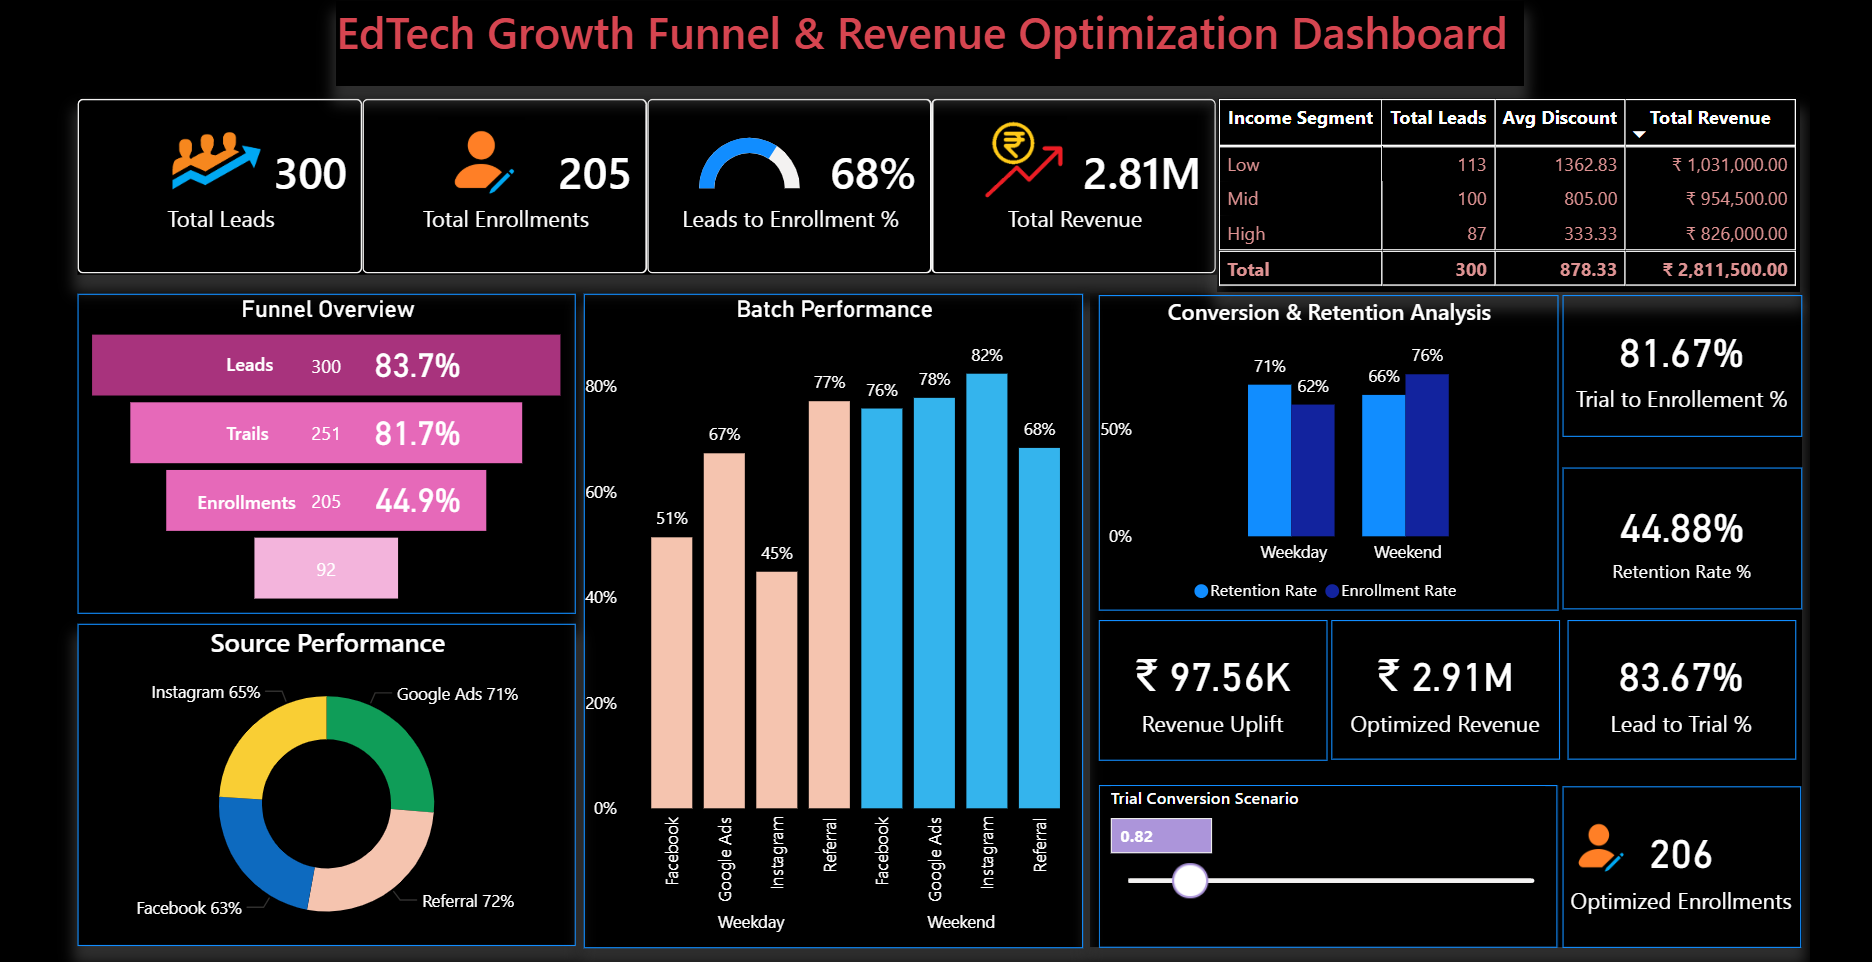

The dashboard page shown, as its layout file describes it:
{"tool":"powerbi","page":{"name":"Overview","canvas":[1280,720],"ordinal":0},"visuals":[{"type":"funnel","title":"Funnel Overview","fields":{"Y":["edtech_dataset.Total Leads","edtech_dataset.Total Trials","edtech_dataset.Total Enrollments","edtech_dataset.Total Retained"]},"box":[20.1,227.7,362.6,233],"z":0,"group":"g2"},{"type":"shape","box":[756.7,227.6,517.5,476],"z":1000},{"type":"slicer","fields":{"Values":["Trial Conversion Scenario.Trial Conversion Scenario"]},"box":[762.9,585.1,333.7,118.2],"z":2000},{"type":"cardVisual","fields":{"Data":["edtech_dataset.Total Leads","edtech_dataset.Total Enrollments","edtech_dataset.Leads to Enrollment %","edtech_dataset.Total Revenue"]},"box":[20.1,86.7,828.6,127.9],"z":3000},{"type":"donutChart","title":"Source Performance","fields":{"Category":["edtech_dataset.source"],"Y":["edtech_dataset.Enrollment Rate"]},"box":[20.1,468.6,362.6,234.7],"z":4000},{"type":"textbox","box":[208.2,15.8,863.6,61.3],"z":5000},{"type":"columnChart","title":"Batch Performance","fields":{"Category":["edtech_dataset.batch_type","edtech_dataset.source"],"Y":["edtech_dataset.Enrollment Rate"]},"box":[388,227.7,363.5,475.6],"z":6000},{"type":"tableEx","fields":{"Values":["edtech_dataset.parent_income_segment","edtech_dataset.Total Leads","Avg(edtech_dataset.discount)","edtech_dataset.Total Revenue"]},"box":[849.1,86.6,424,140.9],"z":7000},{"type":"card","fields":{"Values":["edtech_dataset.Optimized Revenue"]},"box":[931.8,465.5,166.4,101.8],"z":8000},{"type":"card","fields":{"Values":["edtech_dataset.Revenue Uplift"]},"box":[762.5,465.6,166,102],"z":9000},{"type":"gauge","fields":{"Y":["edtech_dataset.Enrollment Rate"]},"box":[467.5,99.9,83.3,66.6],"z":10000},{"type":"card","fields":{"Values":["edtech_dataset.Optimized Enrollments"]},"box":[1100.1,586,173.4,117.4],"z":10000,"group":"g1"},{"type":"image","box":[89.2,99.9,64.2,63],"z":11000},{"type":"image","box":[277.2,99.9,72.6,63],"z":12000},{"type":"image","box":[665.4,99.4,85.5,63.5],"z":13000},{"type":"clusteredColumnChart","title":"Conversion & Retention Analysis","fields":{"Category":["edtech_dataset.batch_type"],"Y":["edtech_dataset.Retention Rate","edtech_dataset.Enrollment Rate"]},"box":[762.5,228.7,334,229.9],"z":14000},{"type":"textbox","box":[128.4,319.3,34.9,18.5],"z":15000,"group":"g2"},{"type":"textbox","box":[107,369.9,76.4,19.3],"z":16000,"group":"g2"},{"type":"image","box":[1100.1,606,52.8,48],"z":16000,"group":"g1"},{"type":"card","fields":{"Values":["edtech_dataset.Trial to Enrollement %"]},"box":[1100,228.7,174,102.8],"z":18000},{"type":"card","fields":{"Values":["edtech_dataset.Retention Rate %"]},"box":[1100,354.7,174,102.8],"z":19000},{"type":"group","id":"g1","title":"Group 1","box":[1100.1,586,173.4,117.4],"z":20000},{"type":"card","fields":{"Values":["edtech_dataset.Lead to Trial %"]},"box":[1104,465.6,166,101.7],"z":21000},{"type":"textbox","box":[128.4,270,41.1,17.9],"z":22000,"group":"g2"},{"type":"card","fields":{"Values":["edtech_dataset.Lead to Trial %"]},"box":[222,261.9,91.3,34],"z":23000,"group":"g2"},{"type":"card","fields":{"Values":["edtech_dataset.Trial to Enrollement %"]},"box":[222,311.6,91.3,34],"z":24000,"group":"g2"},{"type":"card","fields":{"Values":["edtech_dataset.Retention Rate %"]},"box":[222,361.3,91.3,31.5],"z":25000,"group":"g2"},{"type":"group","id":"g2","title":"Group 2","box":[20.1,227.7,362.6,233],"z":25001}]}

Visuals, with their boxes on the page's 1280x720 design canvas (x1, y1, x2, y2). These are canvas units, not pixel positions in the 1872x962 screenshot, which may show the page scaled, cropped or inside an application window:
"Funnel Overview" funnel: (20,228,383,461)
shape: (757,228,1274,704)
slicer - Trial Conversion Scenario.Trial Conversion Scenario: (763,585,1097,703)
cardVisual - edtech_dataset.Total Leads x edtech_dataset.Total Enrollments: (20,87,849,215)
"Source Performance" donutChart: (20,469,383,703)
textbox: (208,16,1072,77)
"Batch Performance" columnChart: (388,228,752,703)
tableEx - edtech_dataset.parent_income_segment x edtech_dataset.Total Leads: (849,87,1273,228)
card - edtech_dataset.Optimized Revenue: (932,466,1098,567)
card - edtech_dataset.Revenue Uplift: (762,466,928,568)
gauge - edtech_dataset.Enrollment Rate: (468,100,551,166)
card - edtech_dataset.Optimized Enrollments: (1100,586,1274,703)
image: (89,100,153,163)
image: (277,100,350,163)
image: (665,99,751,163)
"Conversion & Retention Analysis" clusteredColumnChart: (762,229,1096,459)
textbox: (128,319,163,338)
textbox: (107,370,183,389)
image: (1100,606,1153,654)
card - edtech_dataset.Trial to Enrollement %: (1100,229,1274,332)
card - edtech_dataset.Retention Rate %: (1100,355,1274,458)
"Group 1" group: (1100,586,1274,703)
card - edtech_dataset.Lead to Trial %: (1104,466,1270,567)
textbox: (128,270,170,288)
card - edtech_dataset.Lead to Trial %: (222,262,313,296)
card - edtech_dataset.Trial to Enrollement %: (222,312,313,346)
card - edtech_dataset.Retention Rate %: (222,361,313,393)
"Group 2" group: (20,228,383,461)
